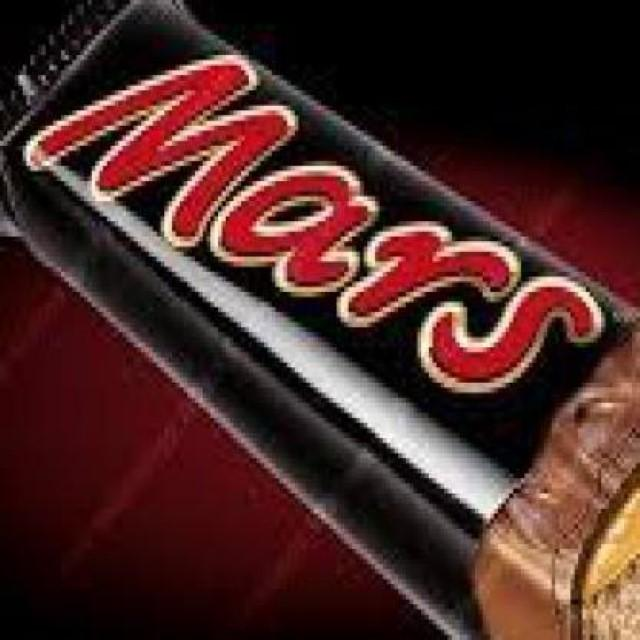mars_chocolate: (2, 5, 638, 585)
